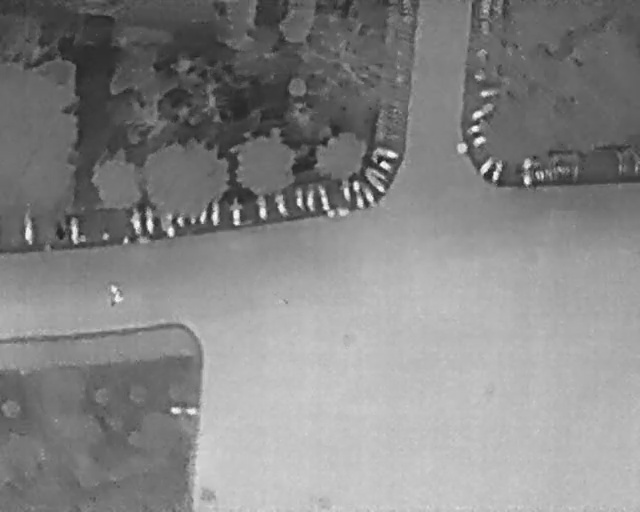Bicycle: (363, 170, 388, 197), (477, 152, 502, 178), (355, 181, 379, 208), (271, 189, 292, 219), (367, 163, 393, 186), (469, 101, 496, 120), (316, 186, 334, 214), (372, 154, 396, 175), (466, 119, 493, 136), (490, 157, 507, 183), (142, 205, 156, 236), (351, 178, 365, 209), (23, 207, 33, 246), (374, 145, 400, 160), (339, 177, 353, 202), (130, 205, 142, 234), (256, 191, 268, 220), (231, 195, 242, 226), (479, 85, 505, 98), (470, 132, 489, 149), (70, 215, 80, 246), (522, 157, 532, 187), (307, 187, 317, 214), (211, 200, 220, 226), (295, 186, 304, 212)
Person: (111, 290, 123, 307), (110, 283, 116, 296)
